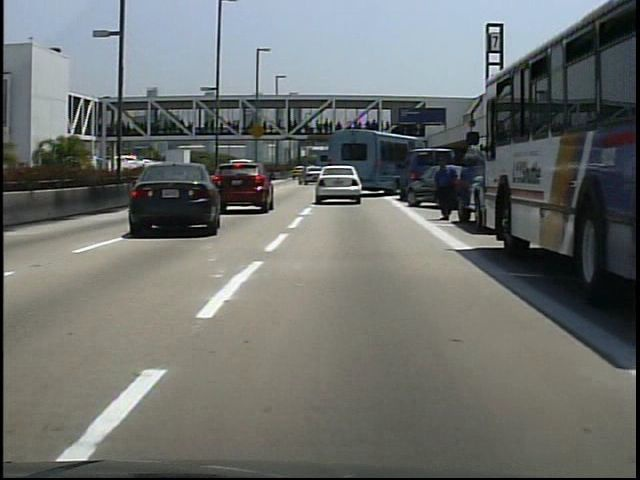person: (430, 158, 459, 225)
